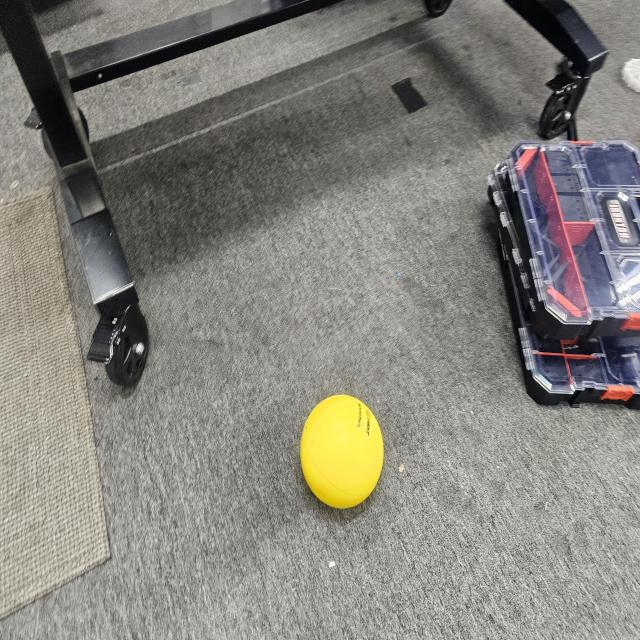Fuel: (298, 391, 388, 517)
